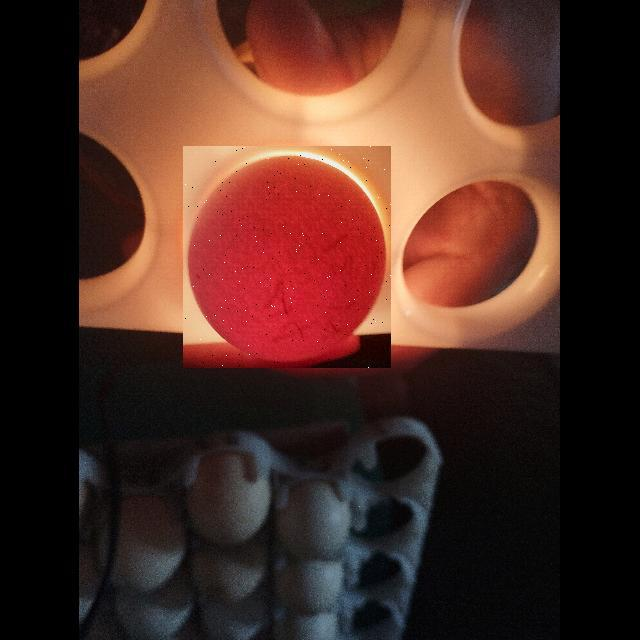Infertile: (183, 146, 391, 368)
